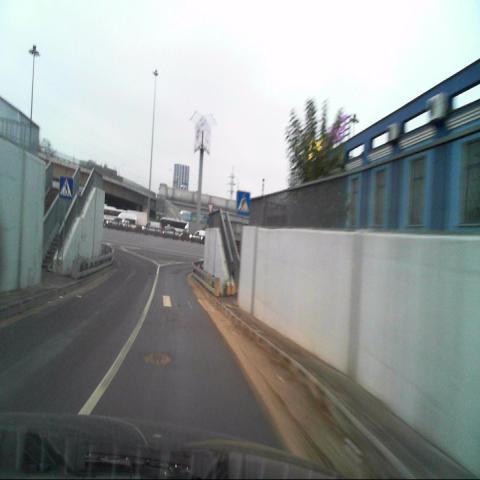5_19_1: (236, 190, 250, 214), (60, 177, 73, 199)
